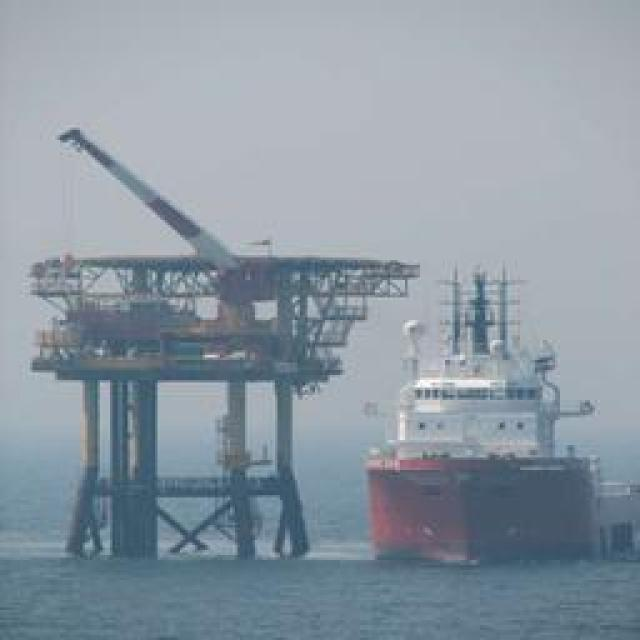CIV_Ship: (362, 284, 606, 564)
